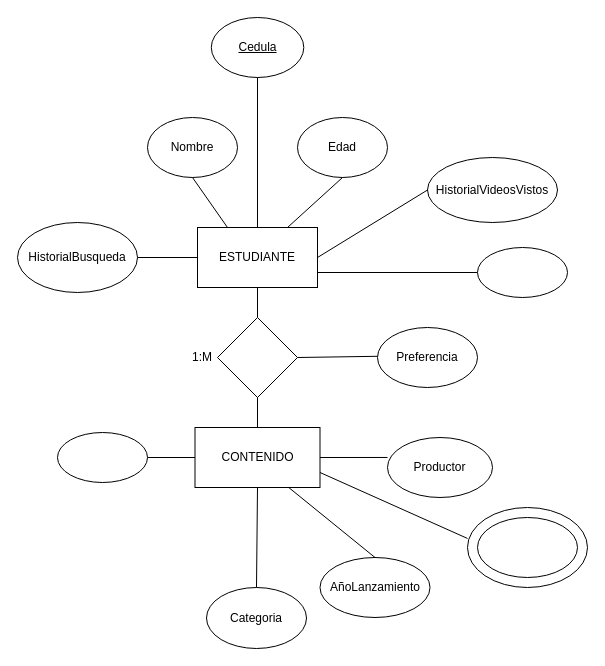
This 605x666 diagram has some shape labels left out. Here are the shapes that lost their labels. From the top down, the box of each, then its label:
(476, 246, 568, 298): Correo
(216, 316, 298, 398): Ver
(56, 432, 148, 482): Id
(476, 516, 578, 578): TipoContenido
